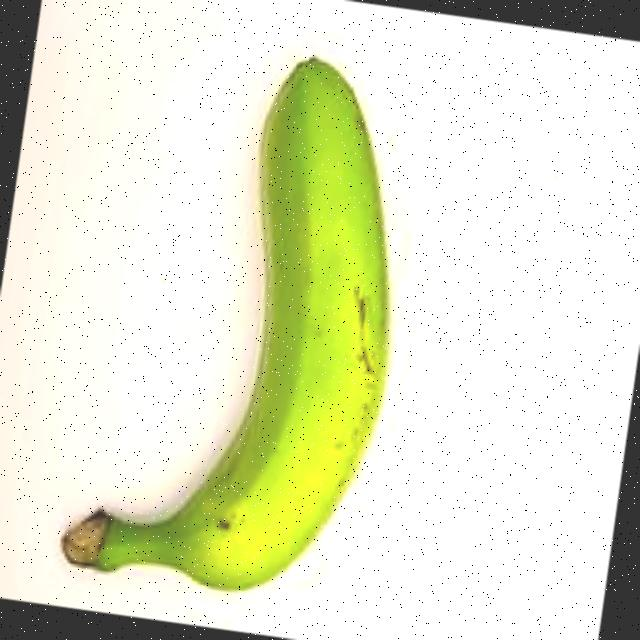Unripe: (30, 7, 438, 630)
